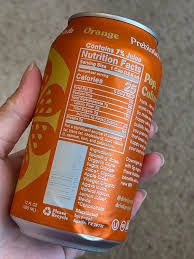can: (9, 11, 164, 252)
